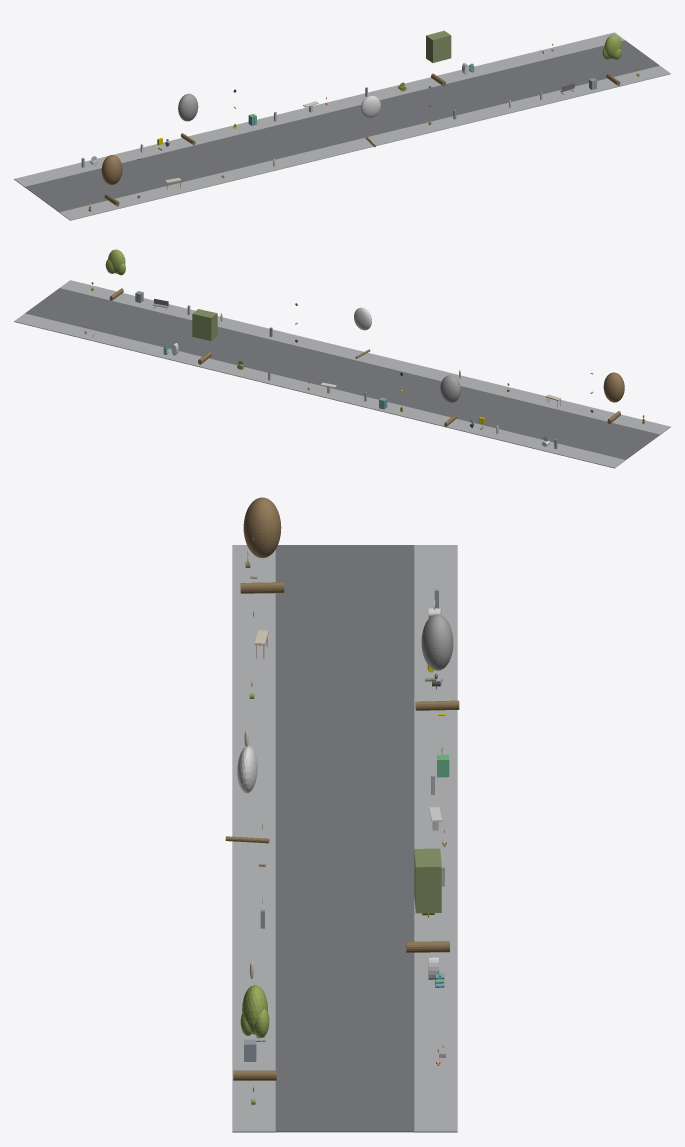
The picture shows the model from 3 angles, top to bottom: view 1: azimuth 30°, elevation 25°; view 2: azimuth 150°, elevation 25°; view 3: azimuth 270°, elevation 25°; orthographic projection. The views are drawn at different scales.
Parts seen in each view (by area): view 1: road_slab, sidewalk_left, sidewalk_right, inst_0015, inst_0012, inst_0013, inst_0016, inst_0014; view 2: road_slab, sidewalk_right, sidewalk_left, inst_0015, inst_0012, inst_0013, inst_0016, inst_0014; view 3: road_slab, sidewalk_left, sidewalk_right, inst_0012, inst_0015, inst_0013, inst_0016, inst_0014.
Boxes of the visible parts, x1=… form: road_slab: x1=25, y1=40, x2=659, y2=212; sidewalk_left: x1=59, y1=66, x2=670, y2=220; sidewalk_right: x1=14, y1=32, x2=624, y2=187; inst_0015: x1=426, y1=30, x2=451, y2=86; inst_0012: x1=101, y1=155, x2=122, y2=206; inst_0013: x1=178, y1=93, x2=198, y2=145; inst_0016: x1=602, y1=34, x2=621, y2=85; inst_0014: x1=360, y1=96, x2=380, y2=147; road_slab: x1=25, y1=288, x2=659, y2=460; sidewalk_right: x1=14, y1=313, x2=625, y2=468; sidewalk_left: x1=60, y1=280, x2=670, y2=434; inst_0015: x1=192, y1=309, x2=217, y2=364; inst_0012: x1=603, y1=372, x2=624, y2=424; inst_0013: x1=440, y1=375, x2=460, y2=426; inst_0016: x1=105, y1=249, x2=125, y2=300; inst_0014: x1=354, y1=307, x2=371, y2=358; road_slab: x1=275, y1=545, x2=414, y2=1132; sidewalk_left: x1=232, y1=545, x2=275, y2=1132; sidewalk_right: x1=414, y1=545, x2=457, y2=1132; inst_0012: x1=240, y1=497, x2=284, y2=593; inst_0015: x1=406, y1=848, x2=449, y2=952; inst_0013: x1=415, y1=614, x2=459, y2=710; inst_0016: x1=233, y1=985, x2=276, y2=1080; inst_0014: x1=225, y1=746, x2=269, y2=843.
Size of the model in its own units: 80 by 6.08 by 13.47.
